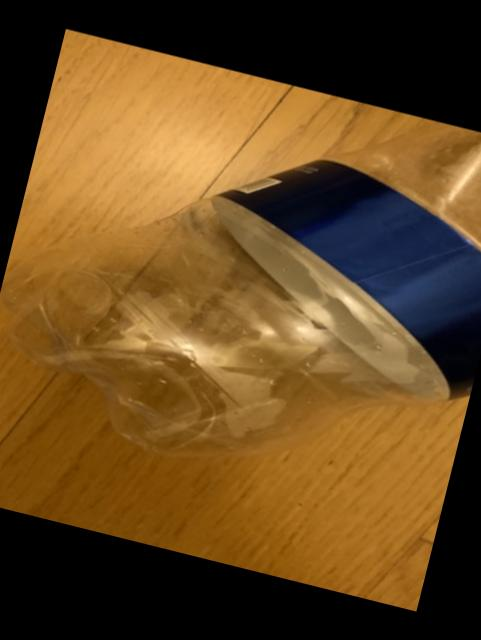plastic: (8, 160, 481, 453)
